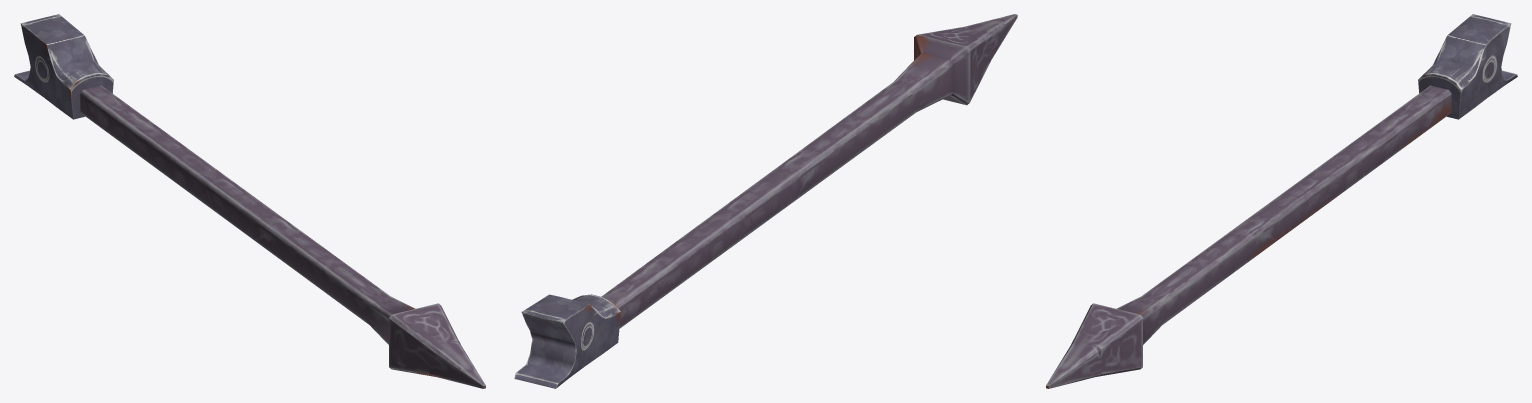
File: Arrow.fbx
The picture shows the model from 3 angles, left to right: view 1: azimuth 30°, elevation 25°; view 2: azimuth 150°, elevation 25°; view 3: azimuth 330°, elevation 25°; orthographic projection. The views are drawn at different scales.
Parts seen in each view (by area): view 1: Arrow01_low; view 2: Arrow01_low; view 3: Arrow01_low.
Part boxes in pixels (x1=…): Arrow01_low: x1=14, y1=14, x2=485, y2=388; Arrow01_low: x1=514, y1=14, x2=1017, y2=388; Arrow01_low: x1=1046, y1=14, x2=1517, y2=388.
Size of the model in its own units: 119 by 153 by 1775.
